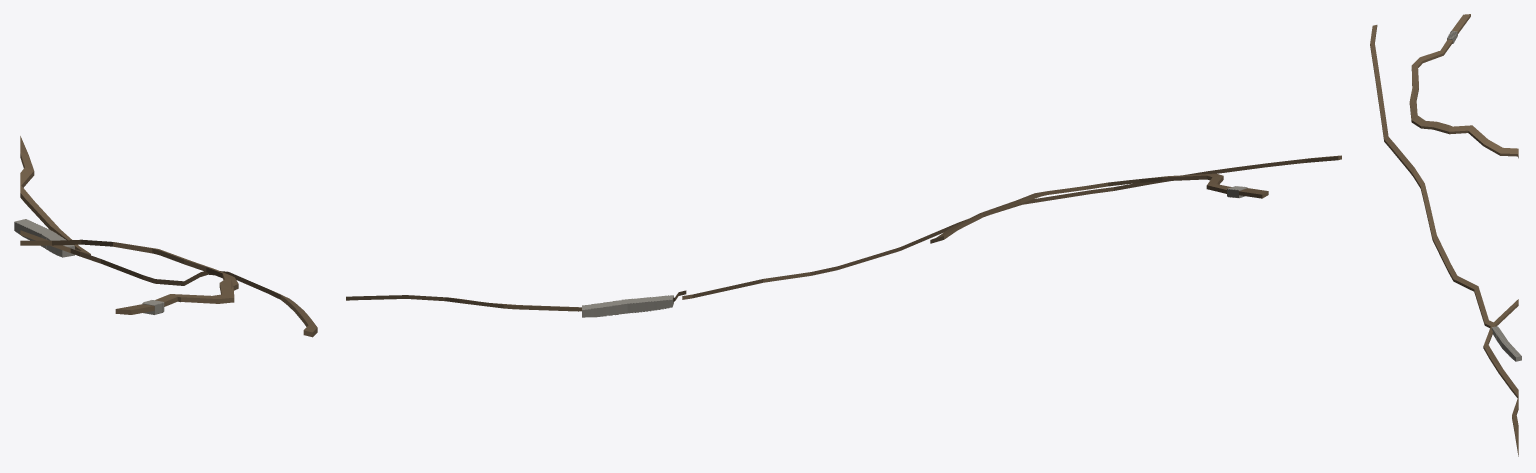
3 views of the same model, side by side, from view 1: azimuth 90°, elevation 25°; view 2: azimuth 150°, elevation 25°; view 3: azimuth 270°, elevation 25° (orthographic). The views are drawn at different scales.
Size of the model in its own units: 165 by 52.48 by 40.
